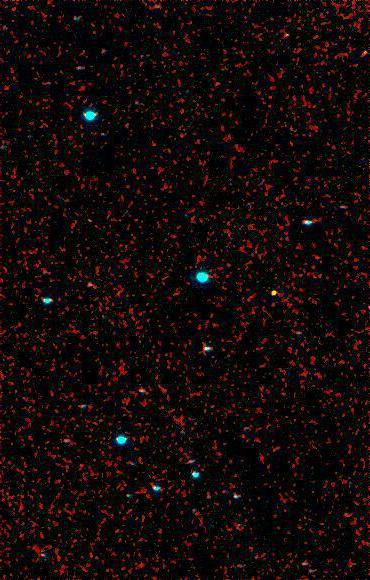star: (262, 278, 292, 308)
